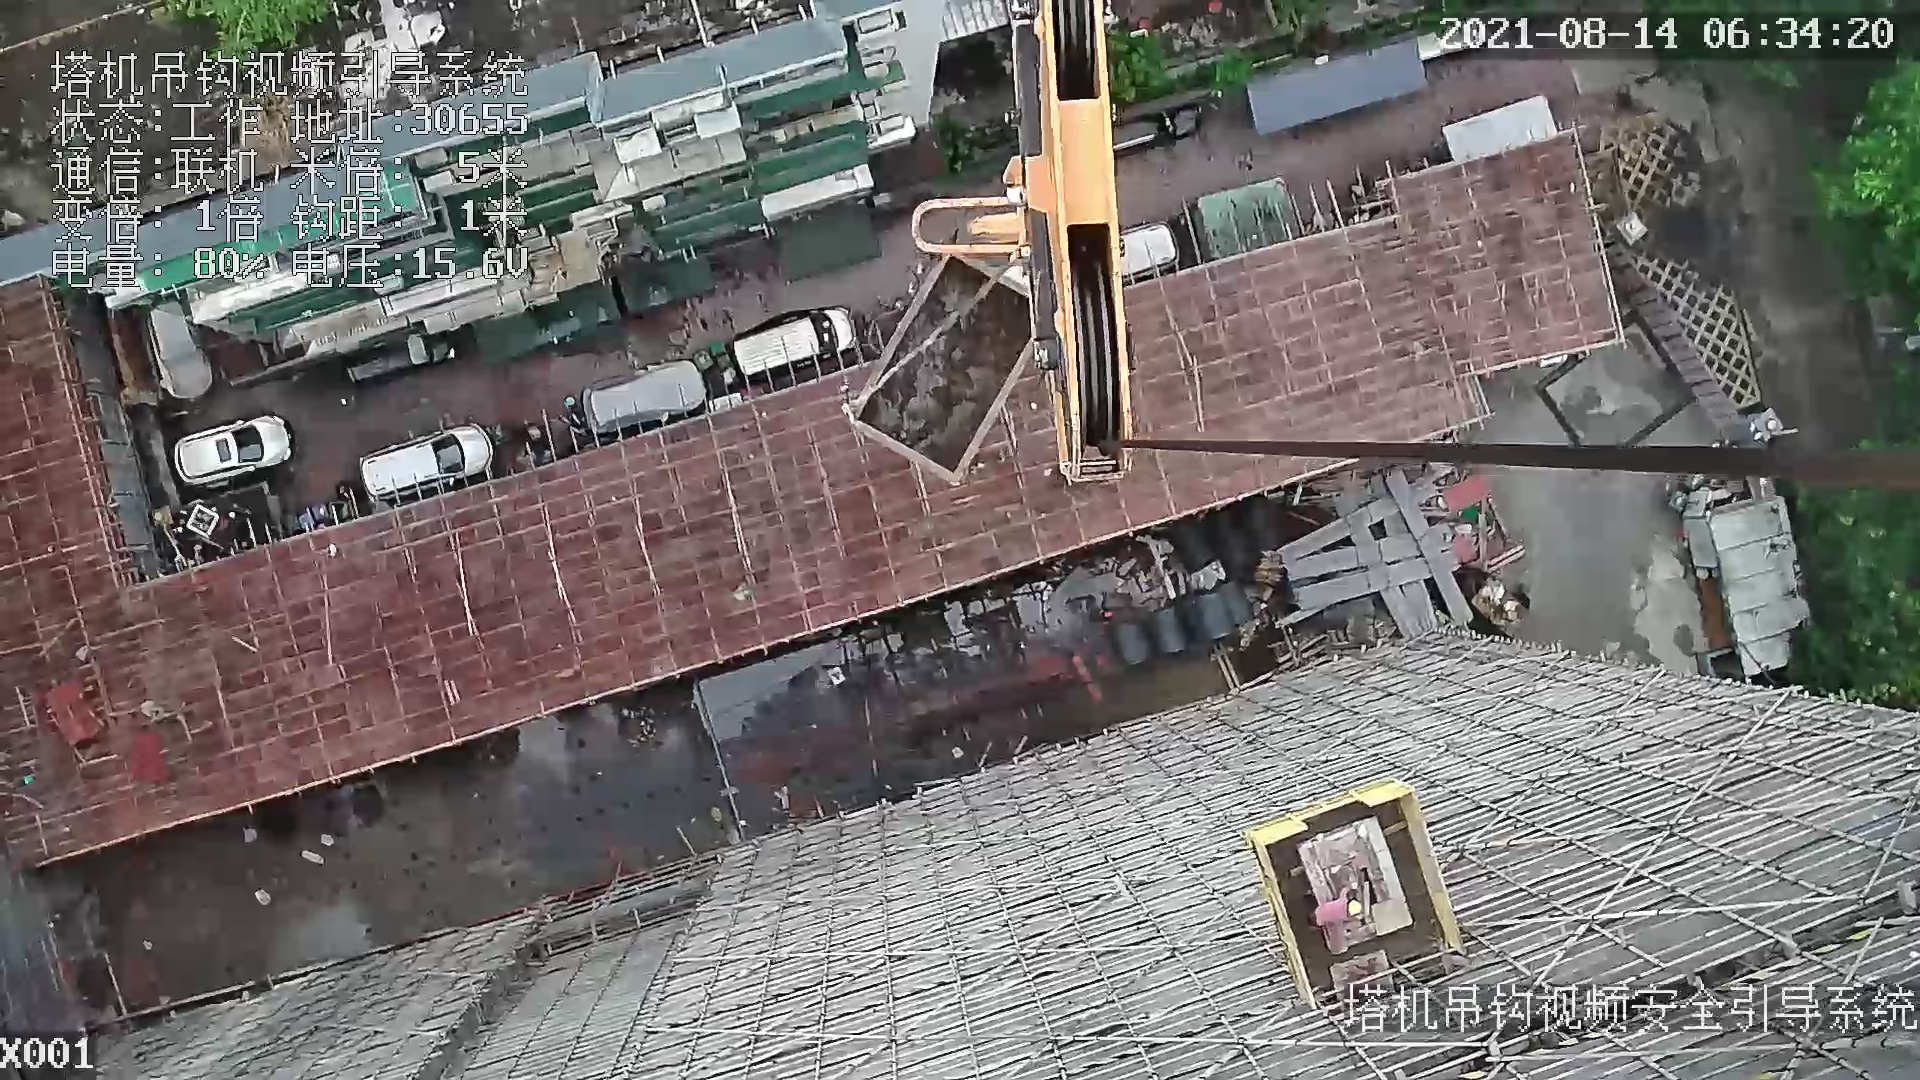helmet: (1347, 898, 1362, 917)
hook: (906, 1, 1133, 481)
hopper: (846, 251, 1045, 500)
person: (1310, 885, 1364, 933)
